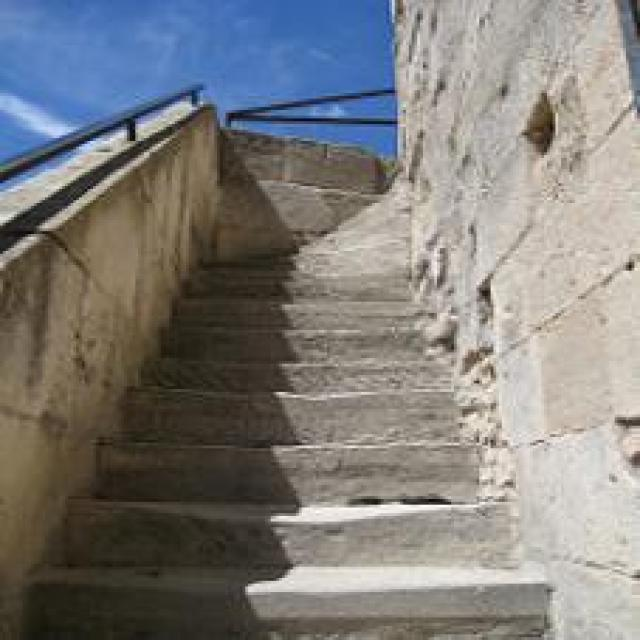upstair: (80, 241, 503, 624)
